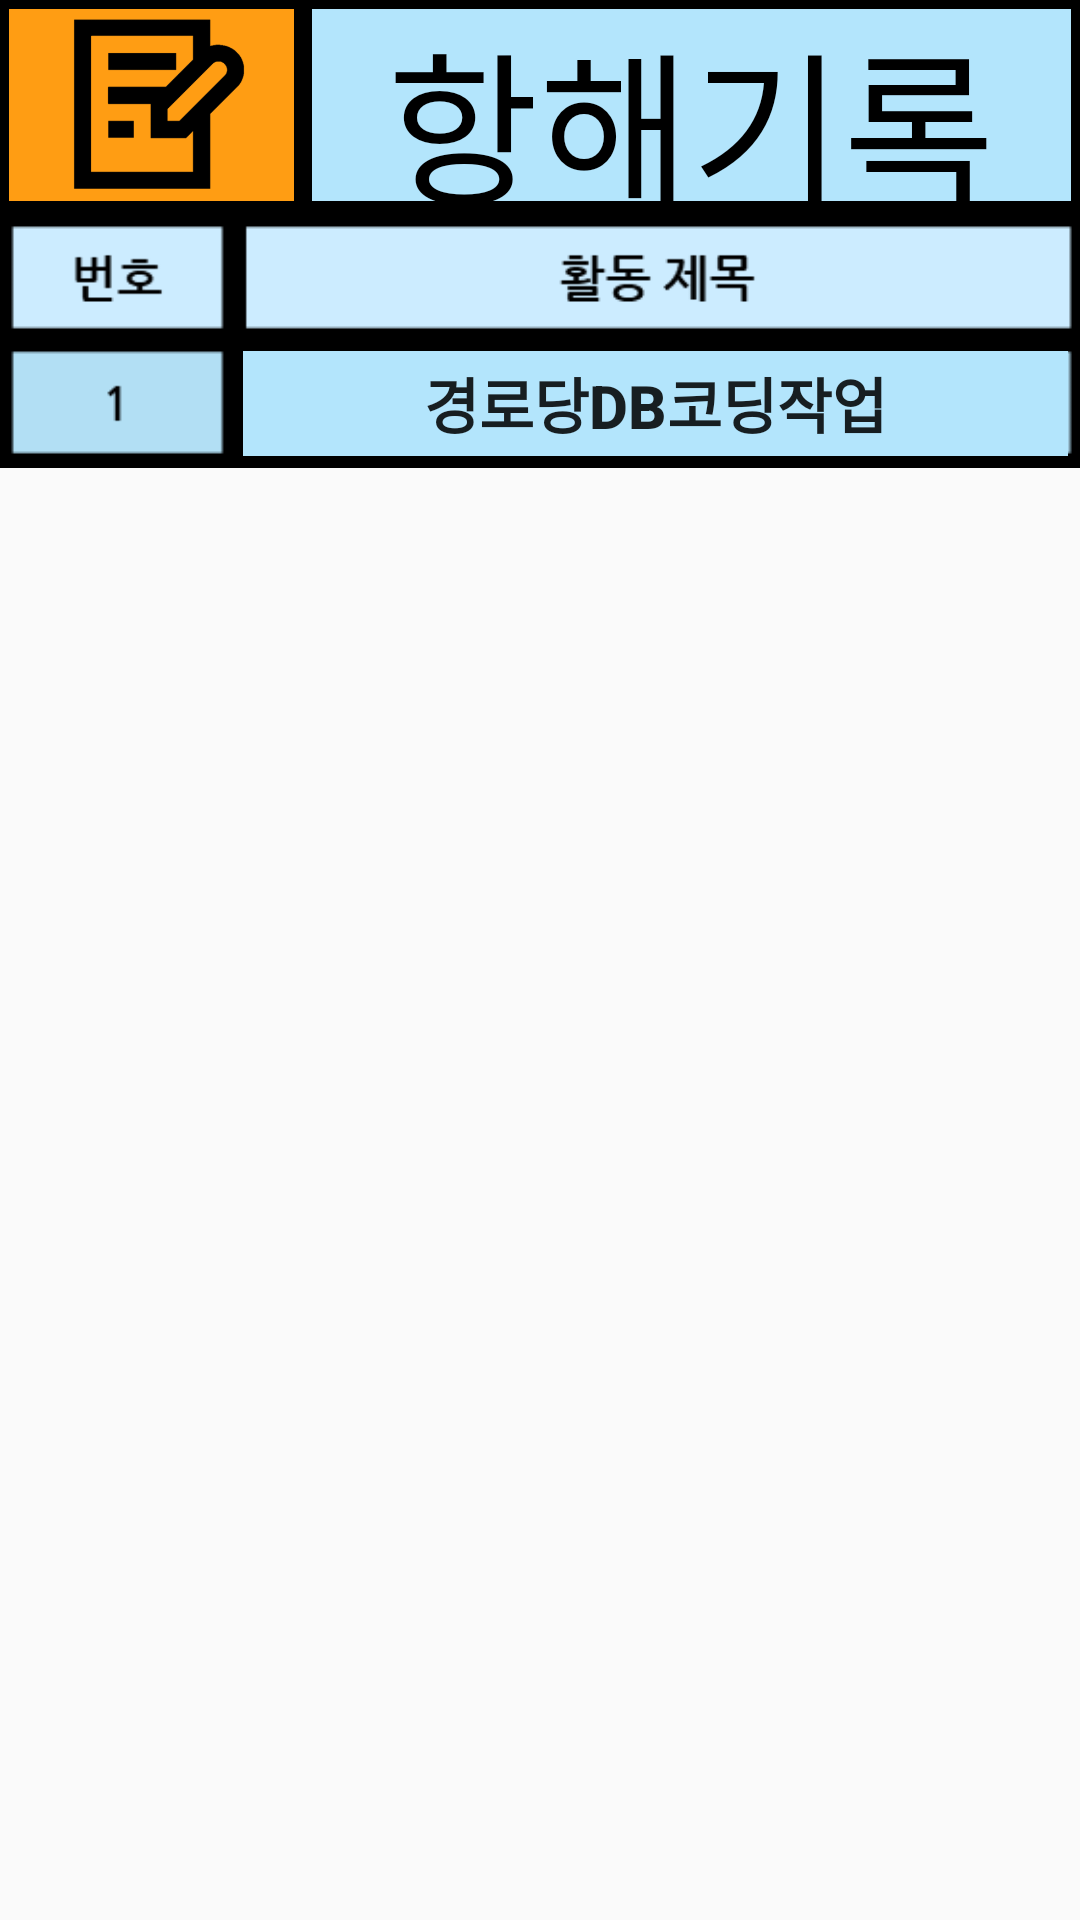

Icon bounding boxes for this 1080x1920 phone screenshot, format (x1, y1, x2, y2):
diaryimage: (9, 9, 294, 201)
